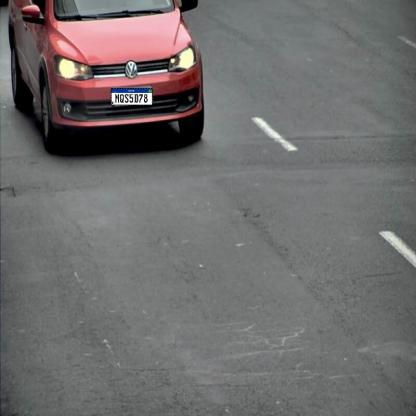PlacaM: (111, 88, 153, 105)
